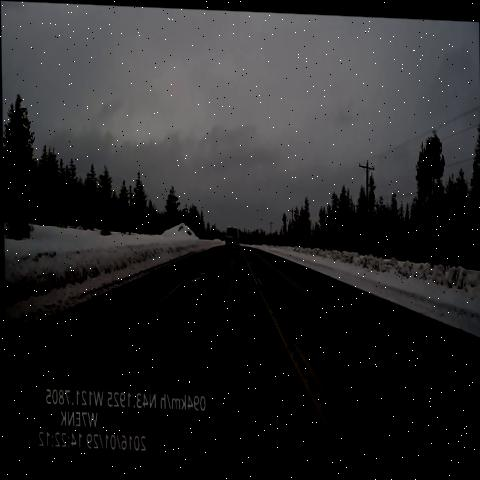pothole: (111, 342, 154, 380), (185, 252, 217, 294), (209, 246, 224, 268)
